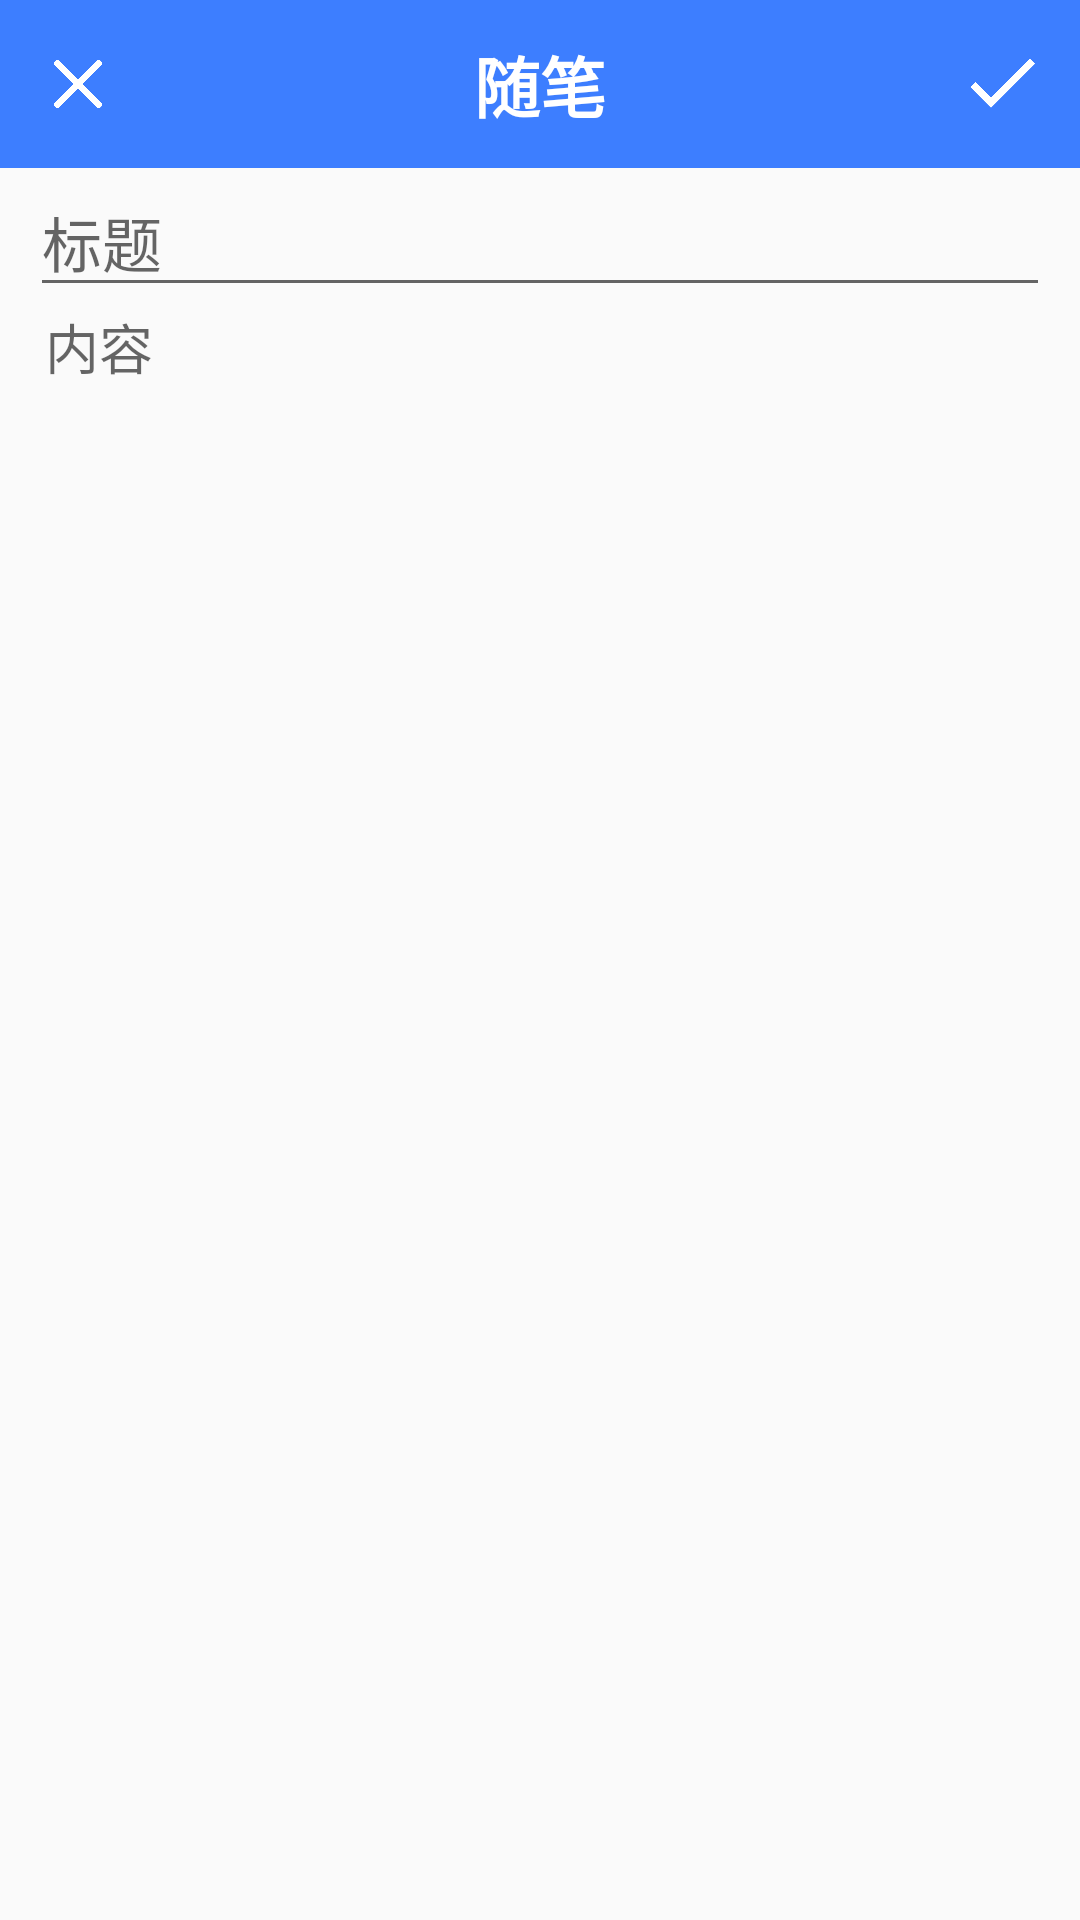

Where icons sit on this 1080 x 1920 app screen, as bbox=(x1, y1, x2, y2):
cancel: bbox=(54, 60, 102, 108)
done: bbox=(971, 59, 1035, 108)
